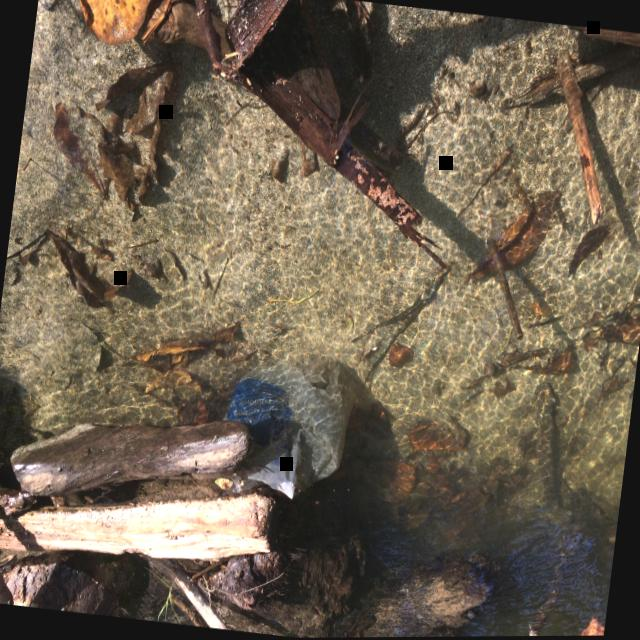Single-use carrier bag: (221, 358, 356, 498)
